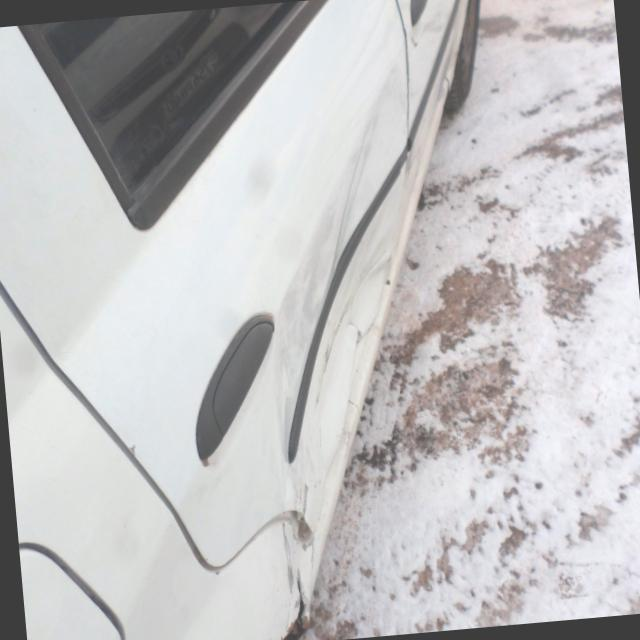Cabossage: (232, 61, 455, 585), (304, 250, 415, 483)
Rayure: (274, 525, 299, 603), (292, 474, 320, 537)
